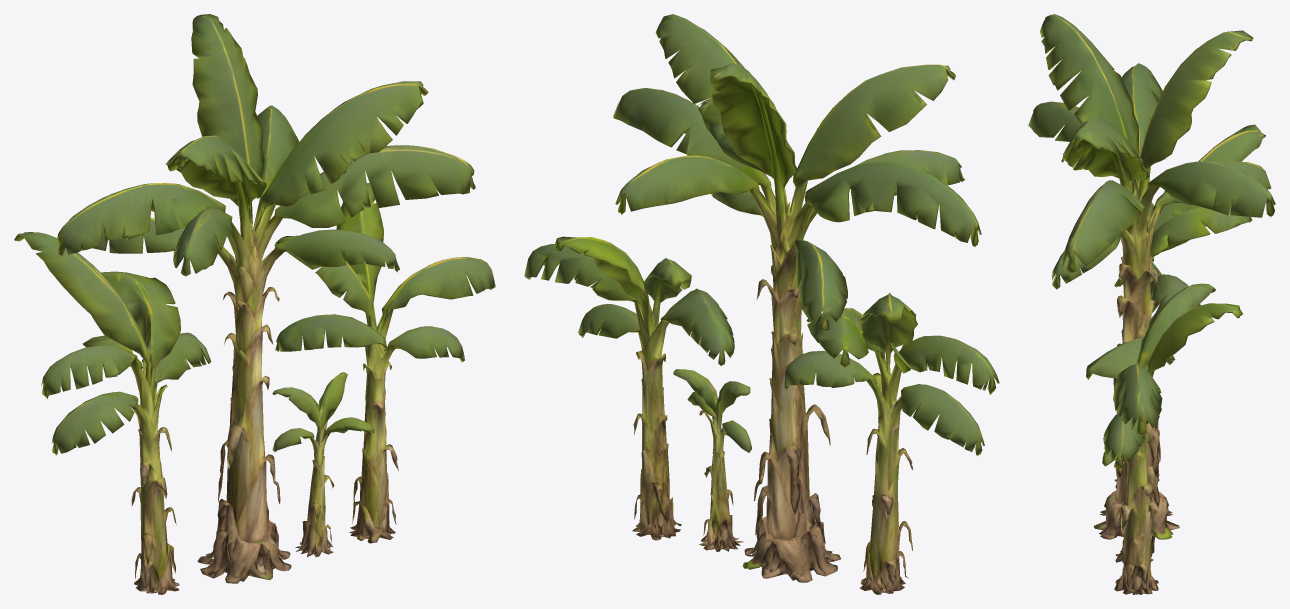
File: BananaClump.fbx
3 views of the same model, side by side, from view 1: azimuth 30°, elevation 25°; view 2: azimuth 150°, elevation 25°; view 3: azimuth 270°, elevation 25° (orthographic). The views are drawn at different scales.
Visible parts, largest first — view 1: Mesh_0; view 2: Mesh_0; view 3: Mesh_0.
Boxes of the visible parts, x1,y1,x2,y2 form: Mesh_0: [14, 14, 495, 594]; Mesh_0: [524, 14, 999, 594]; Mesh_0: [1028, 14, 1275, 594].
Size of the model in its own units: 97.26 by 105 by 47.32.
1 material, 1 textured.
